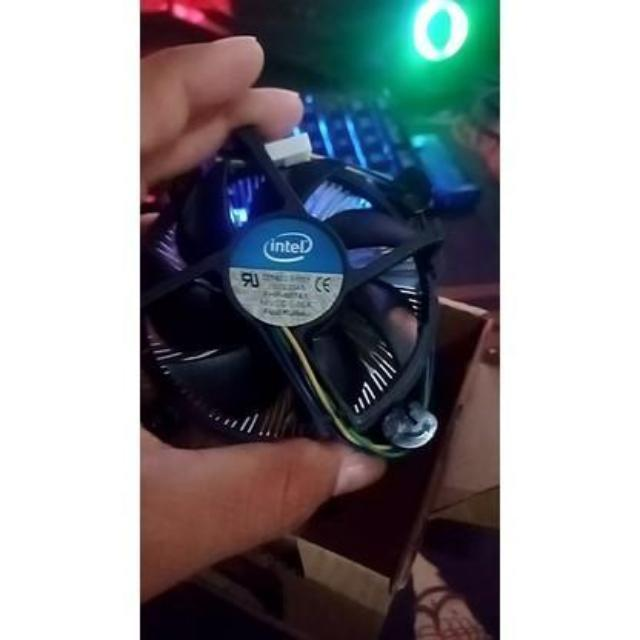CPU_Fan: (142, 140, 430, 458)
